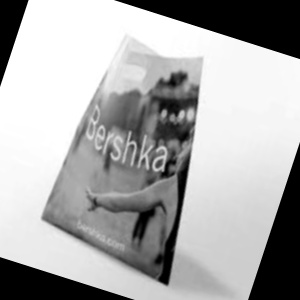bershka: (65, 104, 271, 250)
